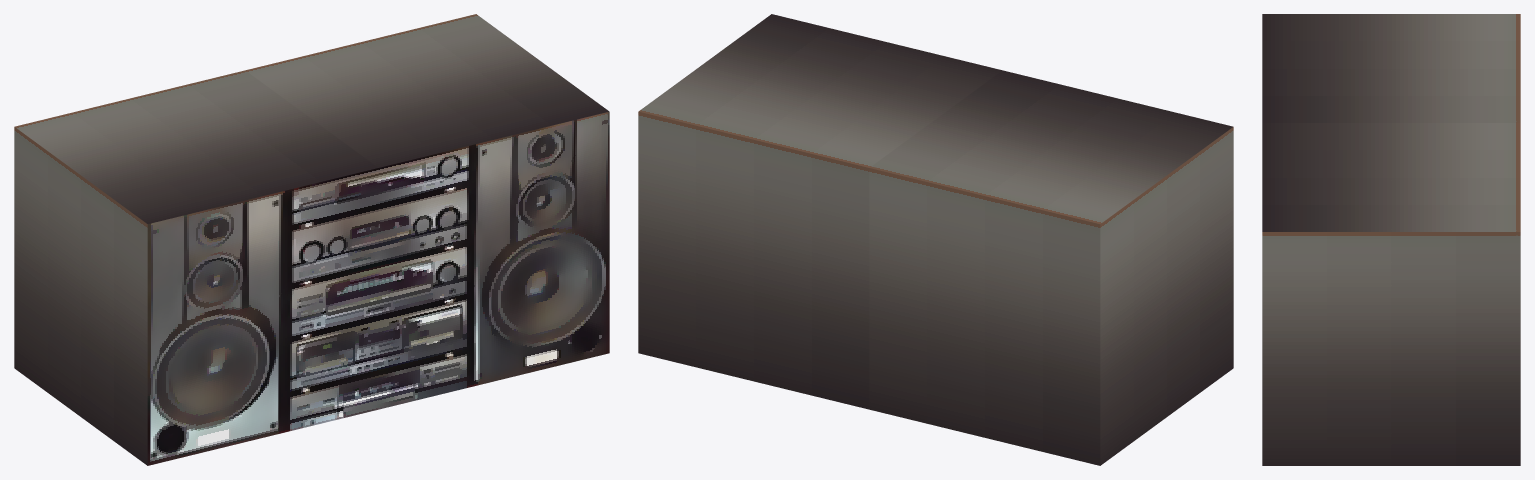
The model's file is 1990s_stereo.glb.
The picture shows the model from 3 angles, left to right: view 1: azimuth 30°, elevation 25°; view 2: azimuth 150°, elevation 25°; view 3: azimuth 270°, elevation 25°; orthographic projection. The views are drawn at different scales.
Size of the model in its own units: 16 by 8 by 8.
Materials: 1 (1 with a texture image).
